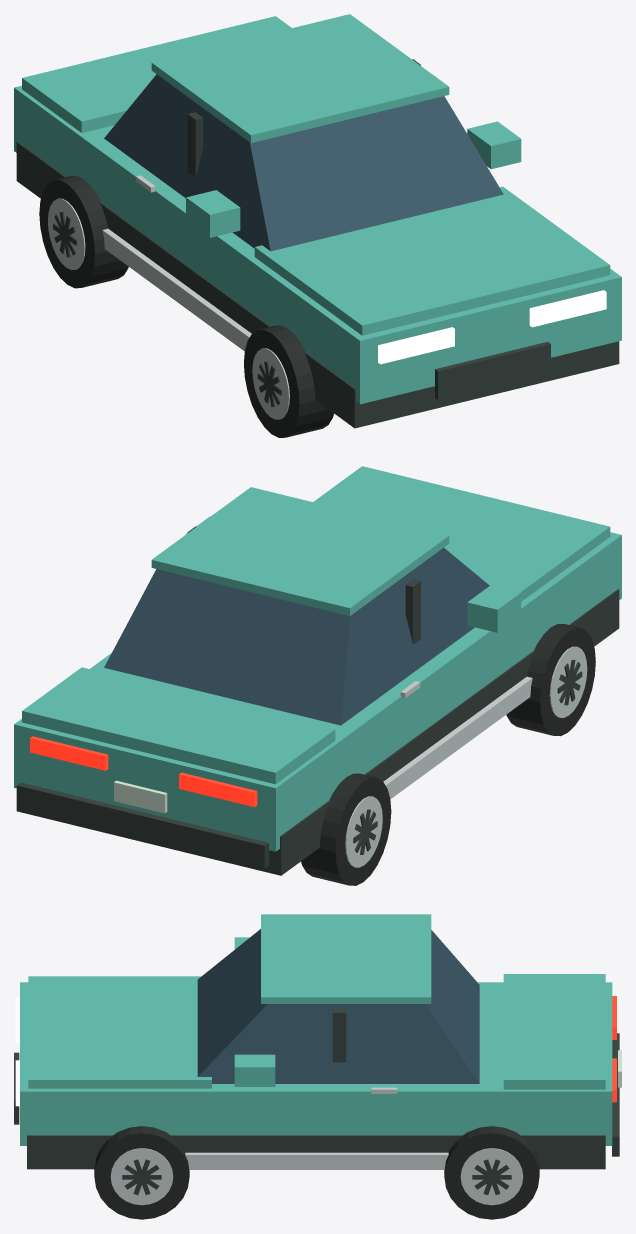
The model's file is e1-touring.gltf.
3 views of the same model, one above another, from view 1: azimuth 30°, elevation 25°; view 2: azimuth 150°, elevation 25°; view 3: azimuth 270°, elevation 25° (orthographic). The views are drawn at different scales.
Visible parts, largest first — view 1: Cabin glazing, Body, Bonnet, Roof, Chassis, Tailgate, wheelFR, wheelRR, Mirror (×2), Front grille, Sill, Headlamp (×2) (+1 smaller); view 2: Cabin glazing, Body, Roof, Tailgate, Bonnet, Chassis, Rear bumper, wheelRR, wheelFR, Sill, Tail lamp (×2), Mirror (+2 smaller); view 3: Body, Cabin glazing, Bonnet, Roof, Tailgate, Chassis, wheelFL, wheelRL, Sill, Mirror, B pillar, Rear bumper.
Boxes of the visible parts, <box> form: Cabin glazing: <box>104,74,503,251</box>; Body: <box>14,85,621,404</box>; Bonnet: <box>254,186,610,335</box>; Roof: <box>151,14,449,142</box>; Chassis: <box>16,141,619,428</box>; Tailgate: <box>22,16,291,132</box>; wheelFR: <box>244,325,333,437</box>; wheelRR: <box>39,176,128,288</box>; Mirror (×2): <box>186,121,521,237</box>; Front grille: <box>435,341,550,400</box>; Sill: <box>102,228,251,350</box>; Headlamp (×2): <box>378,290,606,364</box>; Cabin glazing: <box>104,547,489,725</box>; Body: <box>14,532,621,851</box>; Roof: <box>151,487,449,615</box>; Tailgate: <box>22,667,335,784</box>; Bonnet: <box>313,466,610,601</box>; Chassis: <box>16,589,619,875</box>; Rear bumper: <box>16,782,269,868</box>; wheelRR: <box>301,773,391,885</box>; wheelFR: <box>506,624,595,736</box>; Sill: <box>383,676,532,799</box>; Tail lamp (×2): <box>30,736,257,807</box>; Mirror: <box>467,585,521,632</box>; Body: <box>20,982,612,1145</box>; Cabin glazing: <box>197,929,479,1083</box>; Bonnet: <box>28,976,211,1088</box>; Roof: <box>261,914,431,1003</box>; Tailgate: <box>503,974,605,1089</box>; Chassis: <box>27,1135,605,1169</box>; wheelFL: <box>94,1126,189,1219</box>; wheelRL: <box>444,1126,539,1219</box>; Sill: <box>185,1152,448,1169</box>; Mirror: <box>234,1054,275,1086</box>; B pillar: <box>332,1009,346,1062</box>; Rear bumper: <box>612,1033,619,1156</box>.
Bounding box in the file's own units: 2.26 × 1.64 × 4.46.
